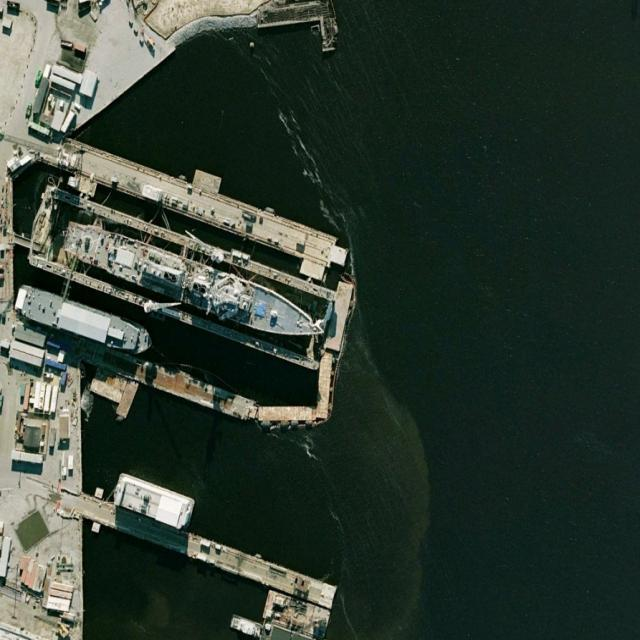Destroyer: (57, 214, 331, 352)
Other Ship: (13, 282, 156, 361)
